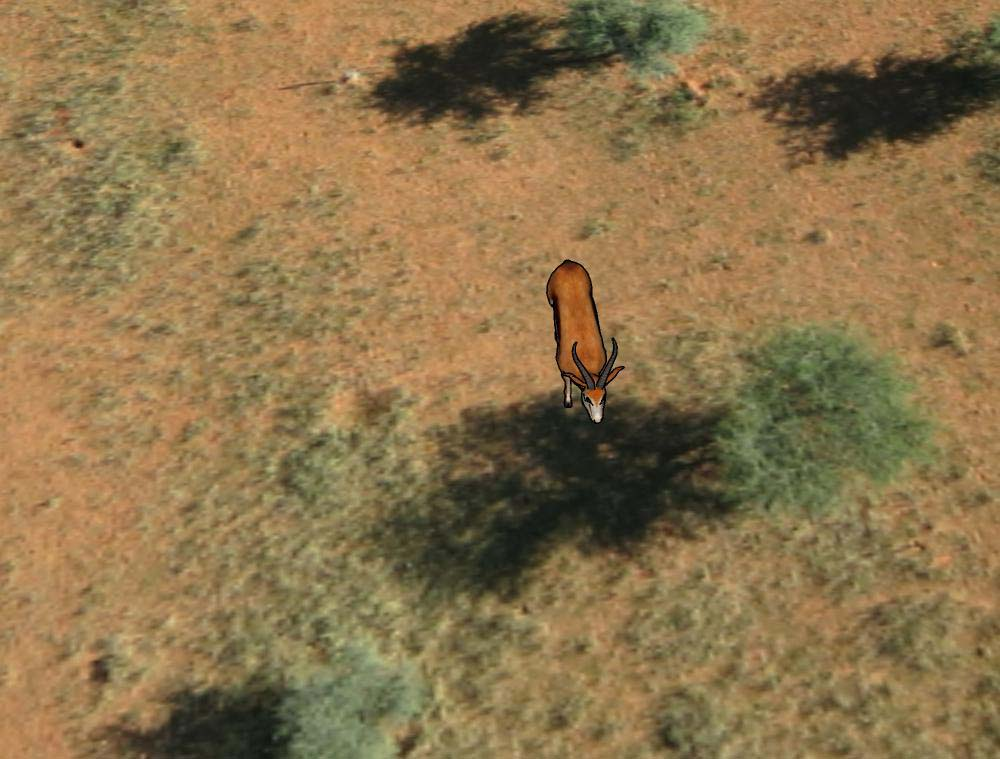springbok: (538, 252, 625, 426)
